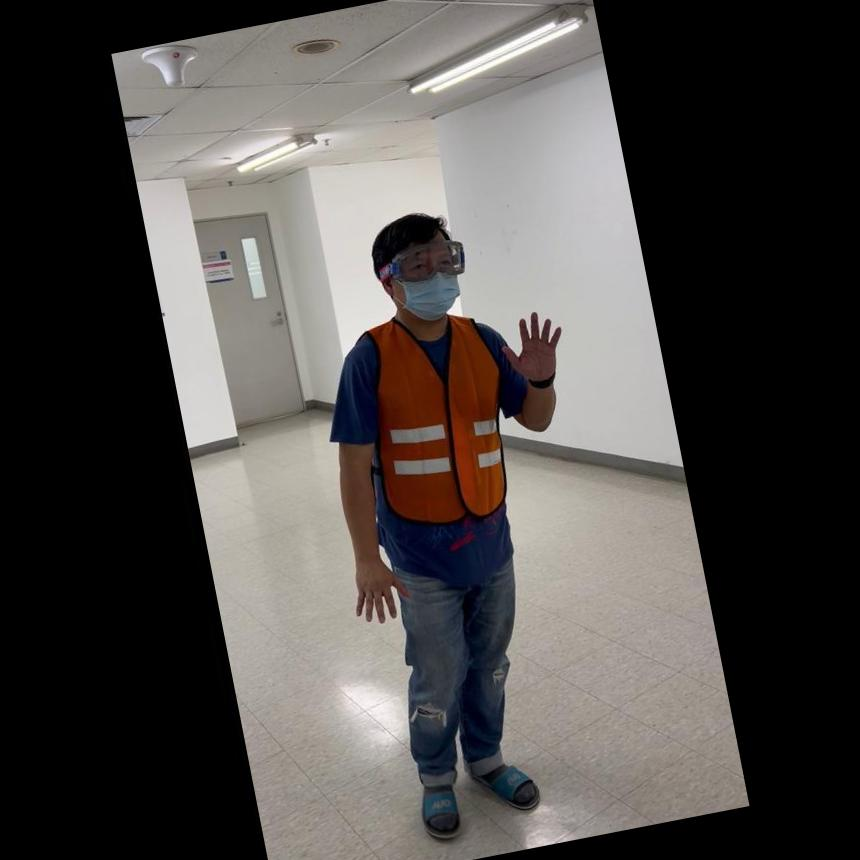No-gloves: (494, 302, 571, 390), (341, 540, 408, 630)
